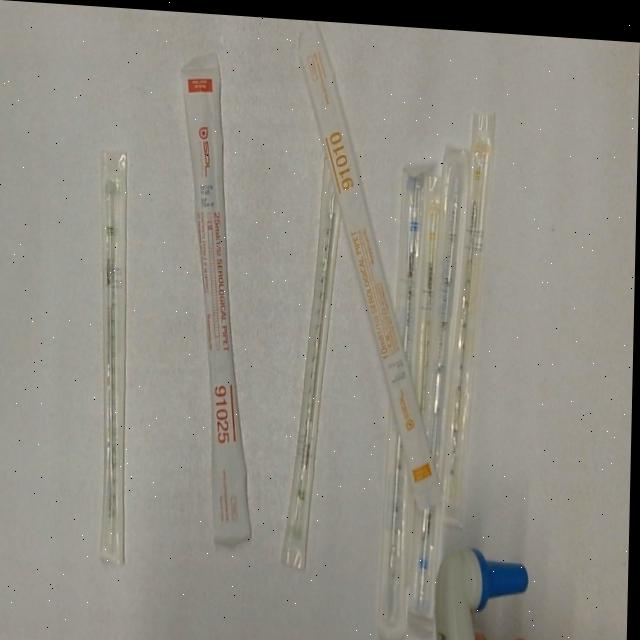Pipette Controller: (431, 535, 562, 640)
Serelogical Pipet 1 mL: (458, 96, 494, 508), (410, 166, 451, 432)
Serelogical Pipet 10 mL: (287, 16, 455, 508)
Serelogical Pipet 2 mL: (279, 141, 353, 572), (94, 140, 140, 571)
Serelogical Pipet 25 mL: (173, 45, 278, 548)
Serelogical Pipet 5 mL: (411, 138, 471, 617), (378, 152, 426, 636)
